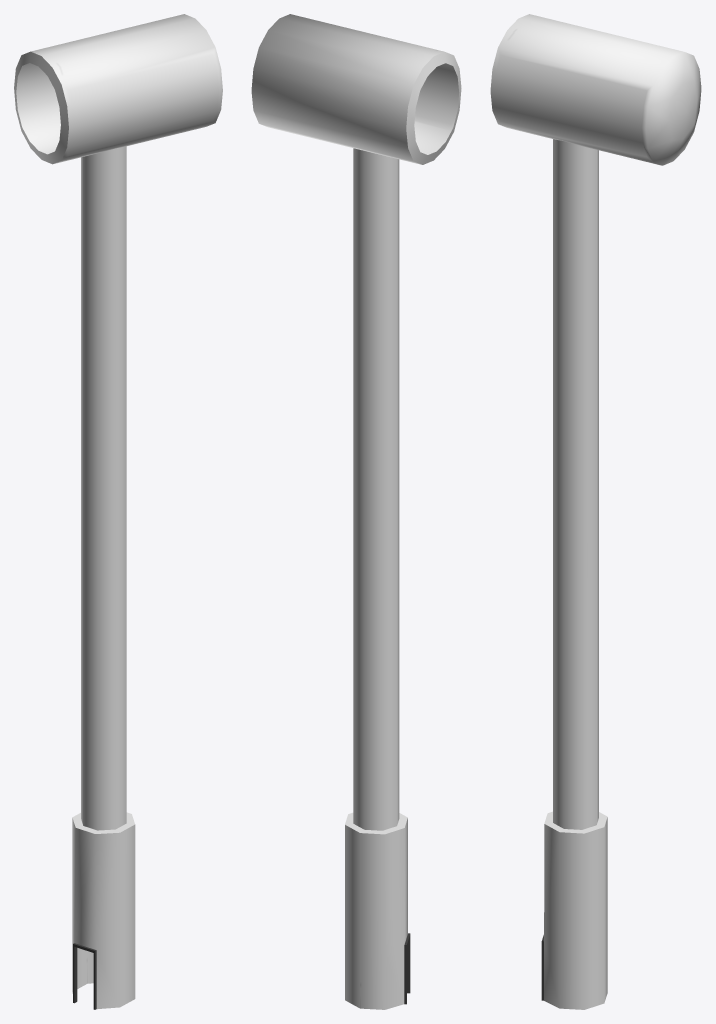
The model's file is Windturbine_Outside.fbx.
3 views of the same model, side by side, from view 1: azimuth 30°, elevation 25°; view 2: azimuth 150°, elevation 25°; view 3: azimuth 330°, elevation 25° (orthographic).
Parts seen in each view (by area): view 1: Cylinder139; view 2: Cylinder139; view 3: Cylinder139.
Part boxes in pixels (x1,y1,x2,y2): Cylinder139: (14,14,222,1009); Cylinder139: (251,14,461,1009); Cylinder139: (490,14,701,1009).
Size of the model in its own units: 197 by 1052 by 110.
1 material, 1 textured.
